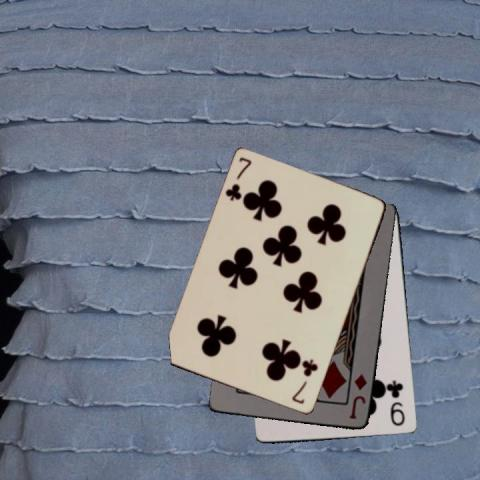7c: (289, 357, 320, 406), (223, 154, 253, 202)
9c: (387, 377, 407, 428)
Jd: (346, 372, 368, 422)
